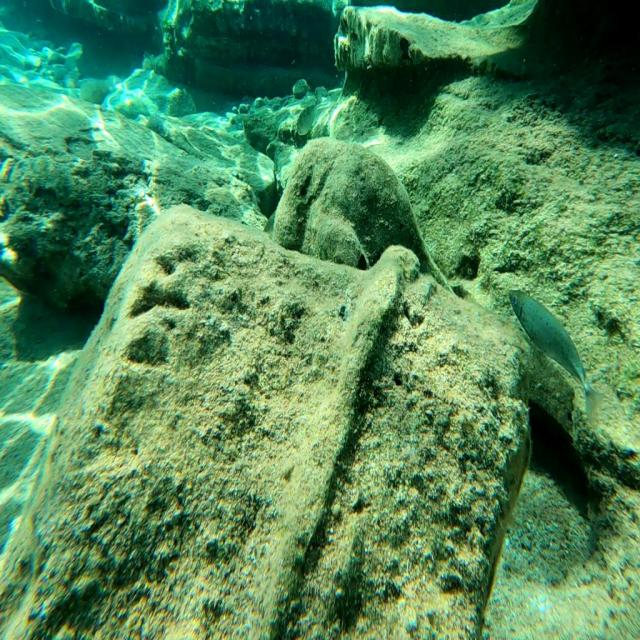Sokar Baligi: (502, 280, 623, 428)
